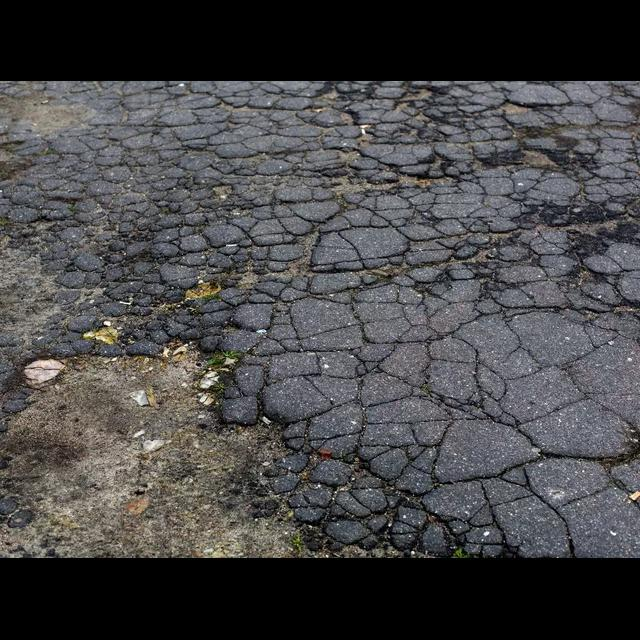retak_kulit_buaya: (126, 81, 640, 334)
